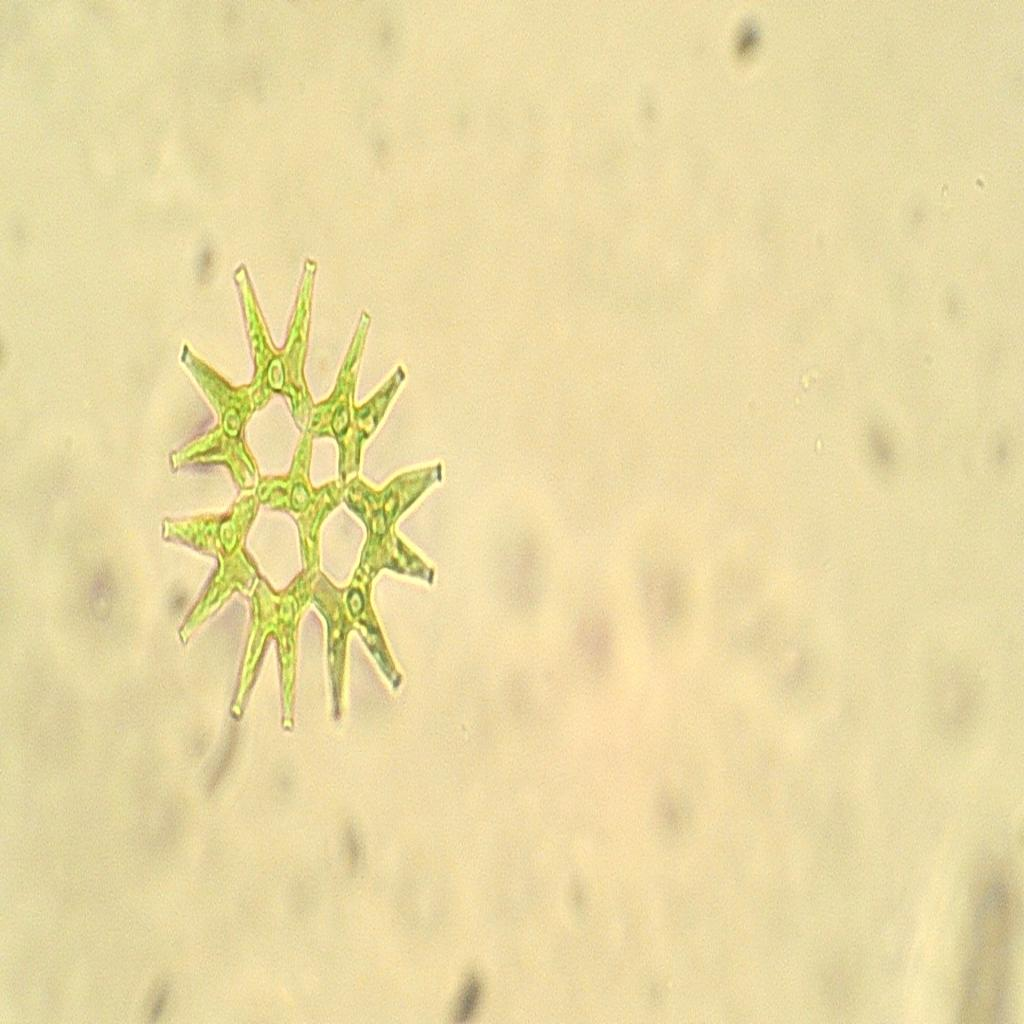Pediastrum_75T: (149, 248, 452, 746)
